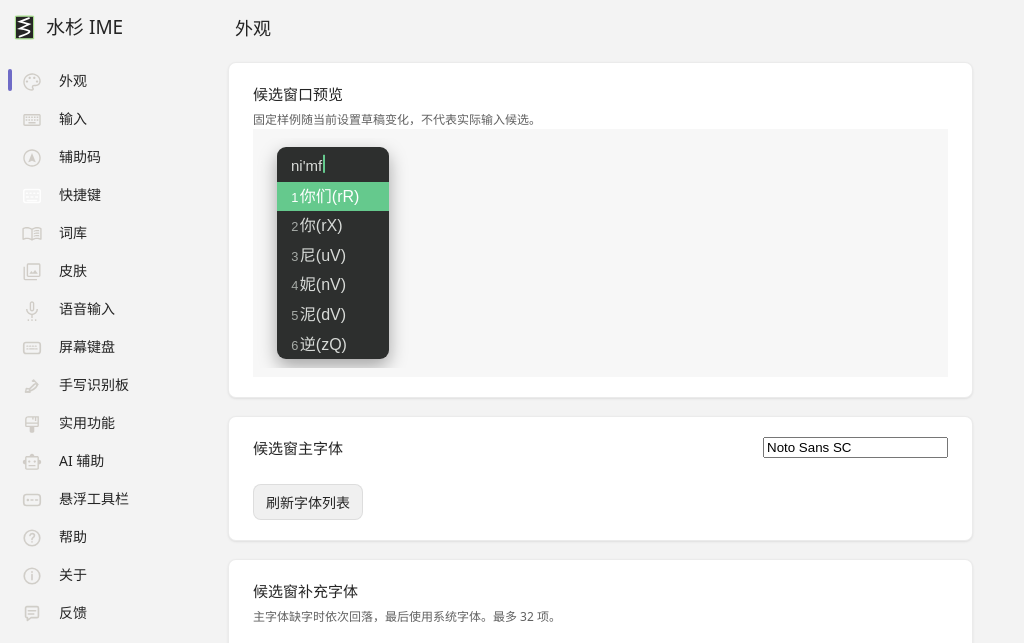
Test: failed catalog retries while allowing manual font entry
Step 1. Focus the dropdown named "候选窗主字体" → [856, 448], box [763, 437, 948, 458]
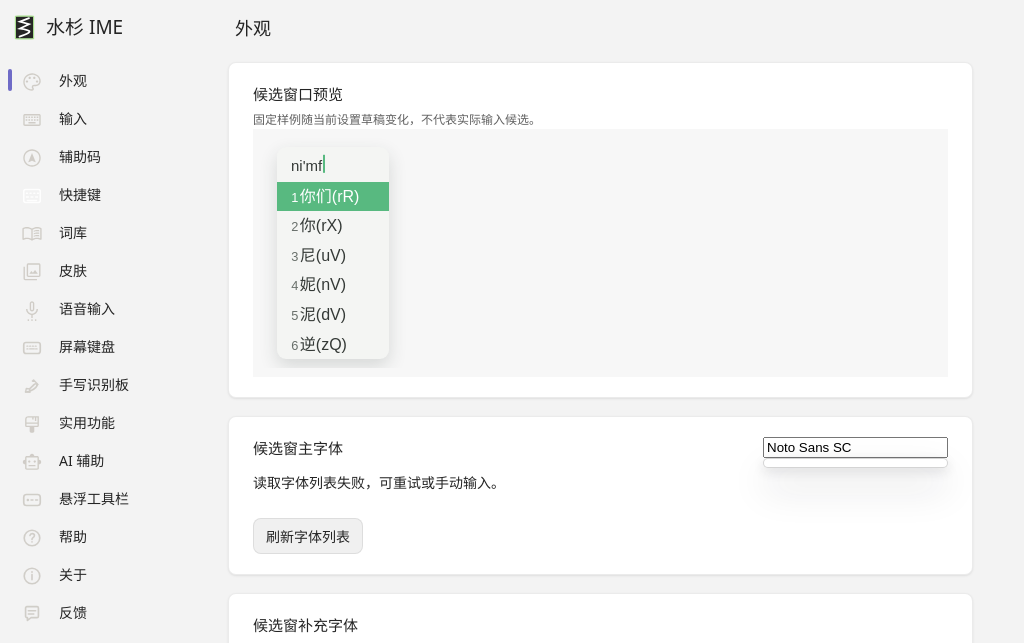
Expected: the text "读取字体列表失败，可重试或手动输入。" is shown, [253, 473, 505, 492]
Step 2. Replace the text in the dropdown named "候选窗主字体" with "手动字体" → [856, 448], box [763, 437, 948, 458]
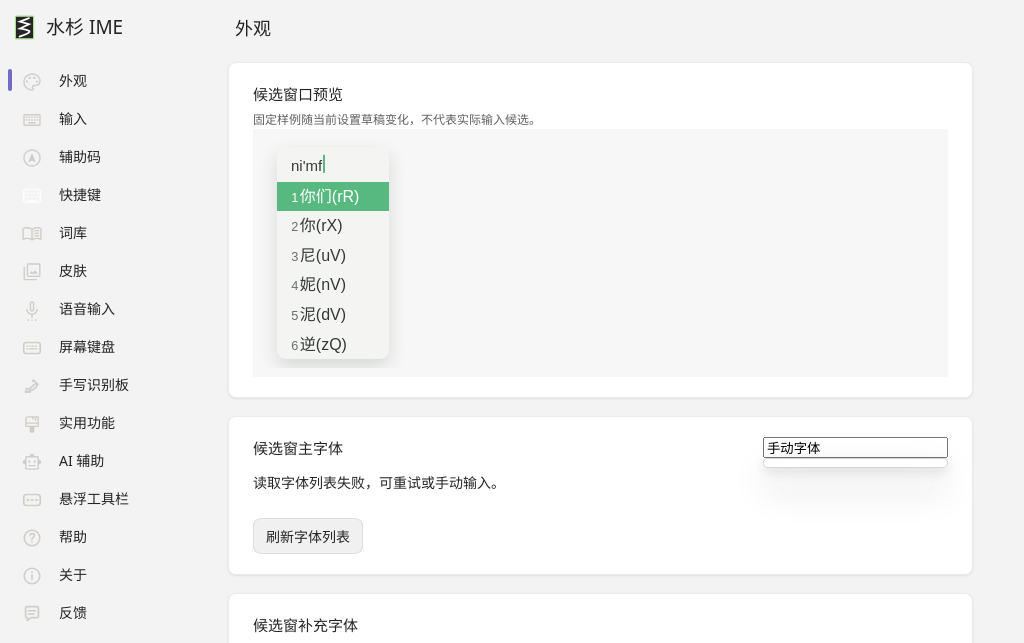
Step 3. Click the button "刷新字体列表" → [308, 536], box [253, 518, 363, 554]
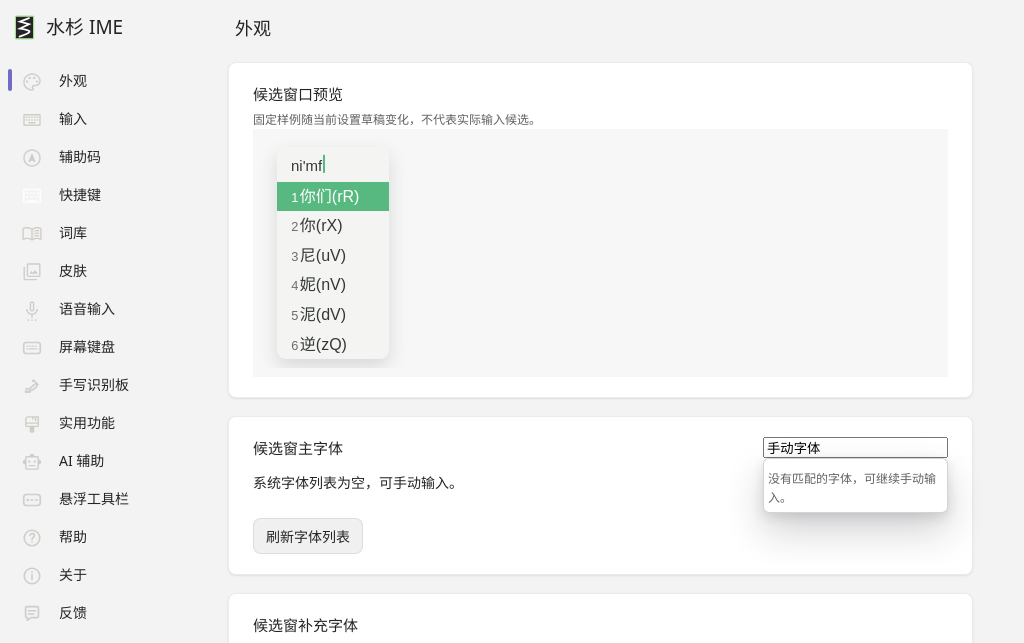
Expected: the text "系统字体列表为空，可手动输入。" is shown, [253, 473, 463, 492]
